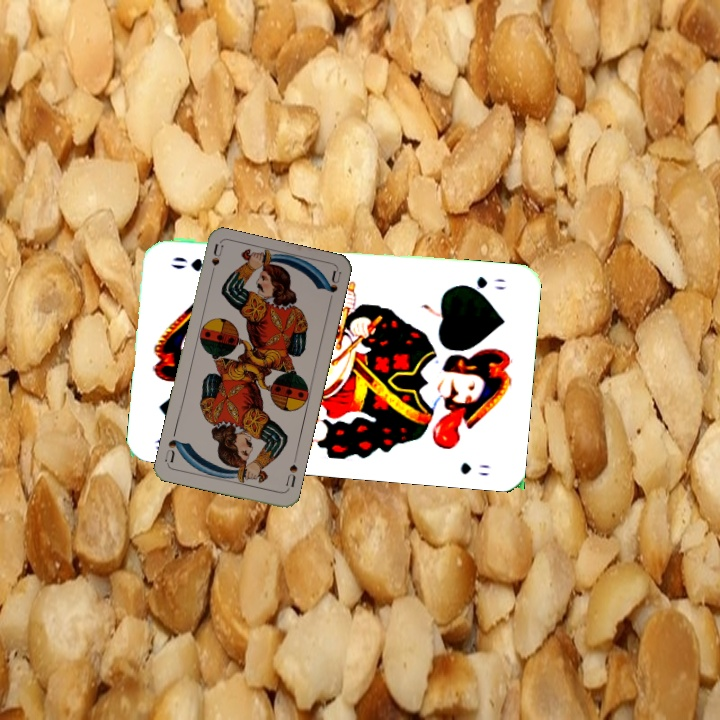GO: (455, 272, 507, 295)
SU: (206, 241, 226, 282), (282, 453, 300, 493)
